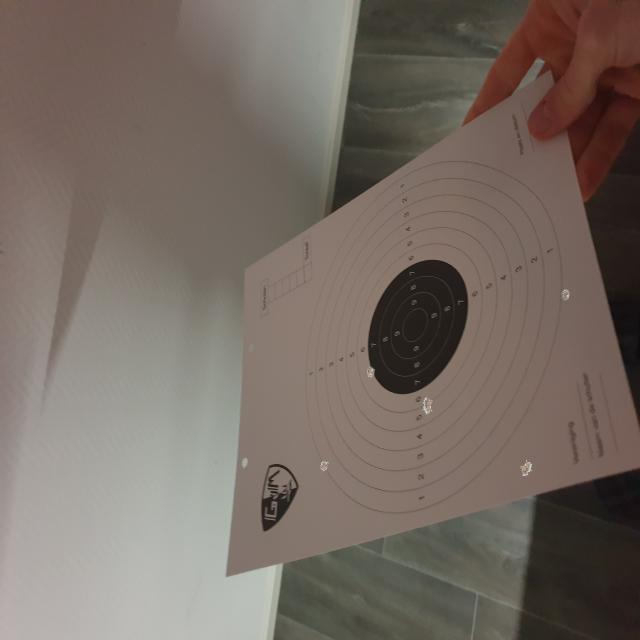0: (562, 289, 570, 301), (521, 464, 528, 476), (526, 462, 532, 471)
1: (320, 461, 329, 471)
5: (423, 406, 432, 414)
6: (422, 396, 432, 406)
7: (367, 366, 375, 378)
Target: (304, 158, 564, 515)
black_contour: (368, 258, 468, 395)
